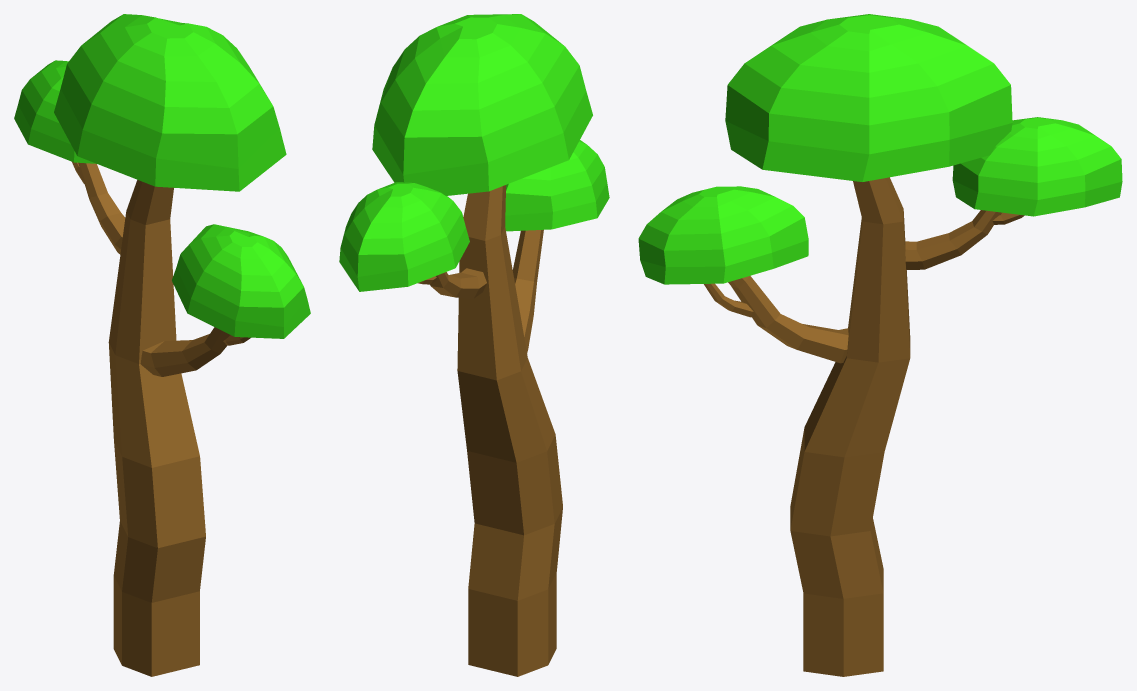
Rendered from arbol1.fbx.
3 renders of one model, left to right at view 1: azimuth 30°, elevation 25°; view 2: azimuth 150°, elevation 25°; view 3: azimuth 270°, elevation 25°, orthographic. The views are drawn at different scales.
Parts seen in each view (by area): view 1: Sphere.002, Cube; view 2: Sphere.002, Cube; view 3: Sphere.002, Cube.
Boxes of the visible parts, box(x1,y1,x2,y2) form: Sphere.002: box(14, 14, 310, 338); Cube: box(72, 162, 250, 676); Sphere.002: box(339, 14, 609, 291); Cube: box(418, 185, 562, 676); Sphere.002: box(638, 14, 1122, 284); Cube: box(704, 177, 1024, 676).
Bounding box in the file's own units: 366 × 1167 × 791.
